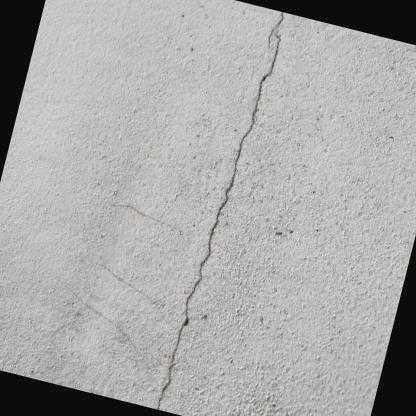crack: (156, 12, 286, 410)
